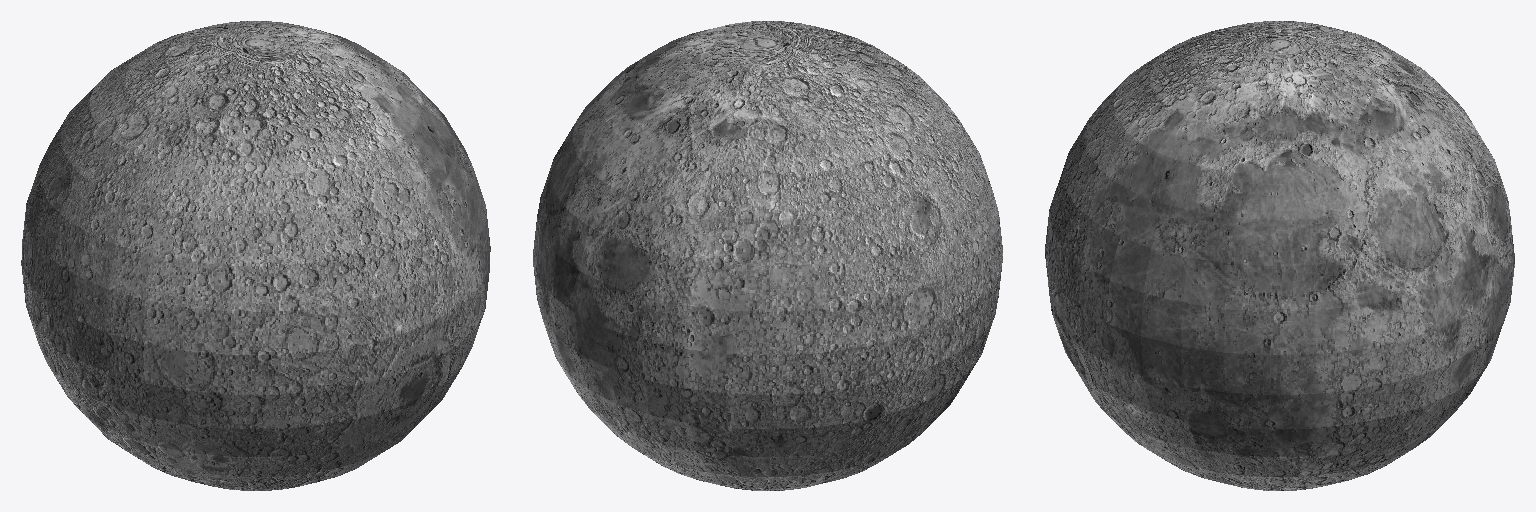
3 views of the same model, side by side, from view 1: azimuth 30°, elevation 25°; view 2: azimuth 150°, elevation 25°; view 3: azimuth 270°, elevation 25° (orthographic).
Parts seen in each view (by area): view 1: Mercury; view 2: Mercury; view 3: Mercury.
Part boxes in pixels (bbox=[...]): Mercury: bbox=[21, 21, 490, 490]; Mercury: bbox=[533, 21, 1002, 490]; Mercury: bbox=[1045, 21, 1514, 490].
Size of the model in its own units: 81.69 by 81.77 by 81.69.
1 materials, 1 textured.